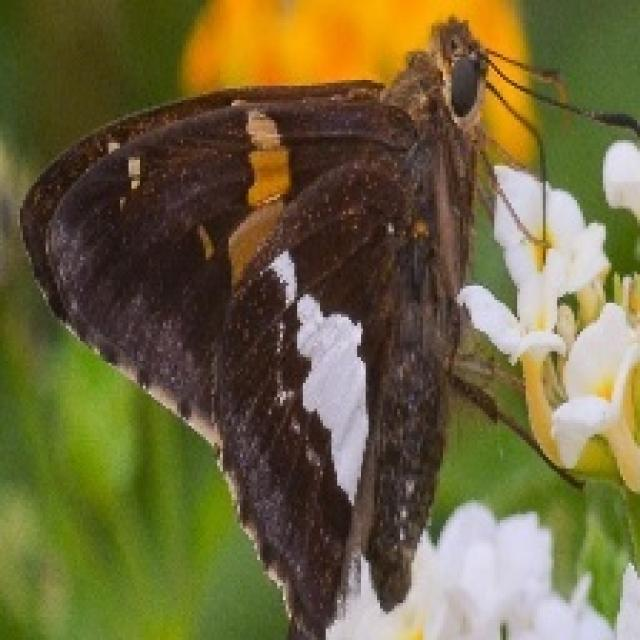butterfly: (17, 12, 637, 637)
